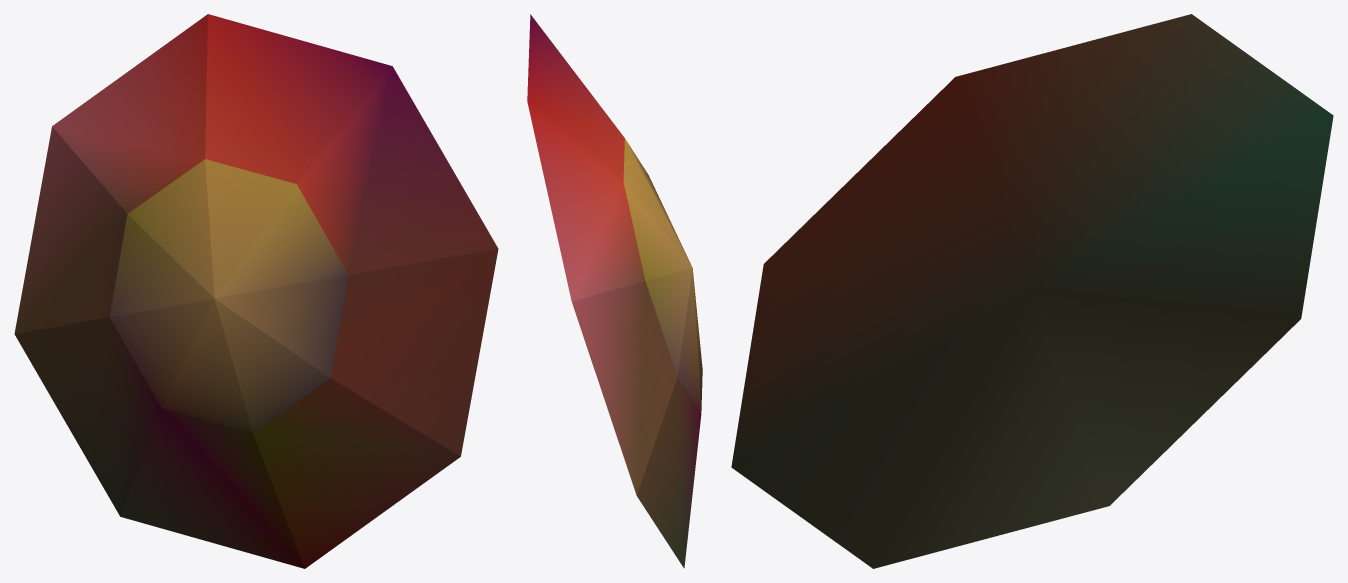
Rendered from ifaa.hrc.gltf.
3 views of the same model, side by side, from view 1: azimuth 30°, elevation 25°; view 2: azimuth 150°, elevation 25°; view 3: azimuth 270°, elevation 25° (orthographic). The views are drawn at different scales.
Parts seen in each view (by area): view 1: ifaaBone0_0; view 2: ifaaBone0_0; view 3: ifaaBone0_0.
Part boxes in pixels (<box>): ifaaBone0_0: <box>14,14,498,568</box>; ifaaBone0_0: <box>527,14,702,568</box>; ifaaBone0_0: <box>731,14,1333,568</box>.
Bounding box in the file's own units: 269 × 433 × 413.
